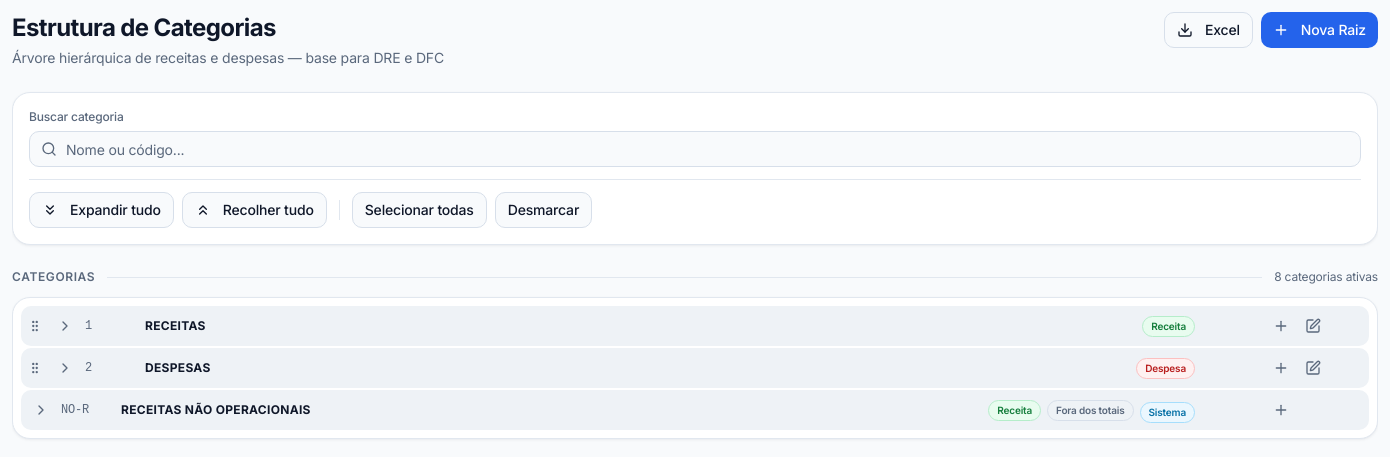
Estrutura de Categorias (V2) › busca que acha um grupo só pelo nome não o transforma em folha (sem seleção nem Desativar)
Expected: the text "RECEITAS" is shown, [145, 318, 206, 334]
Type "vendas no salao" into the search field labelled "Buscar categoria" at (695, 149), box [29, 131, 1361, 167]
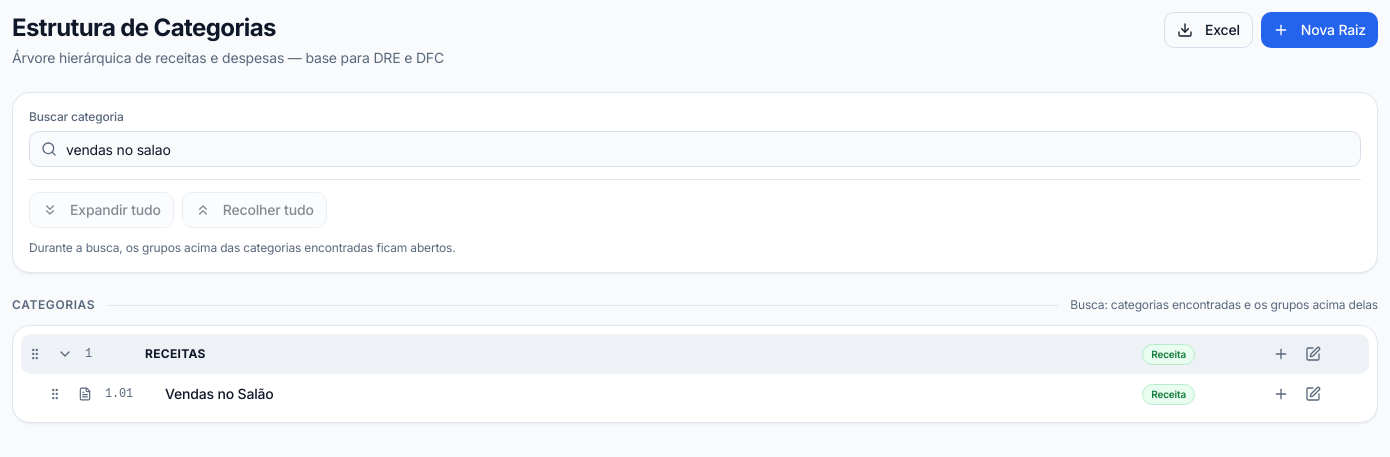
Now the text "Vendas no Salão" is shown, box [165, 384, 274, 404]
Now the button "Selecionar todas" is gone
